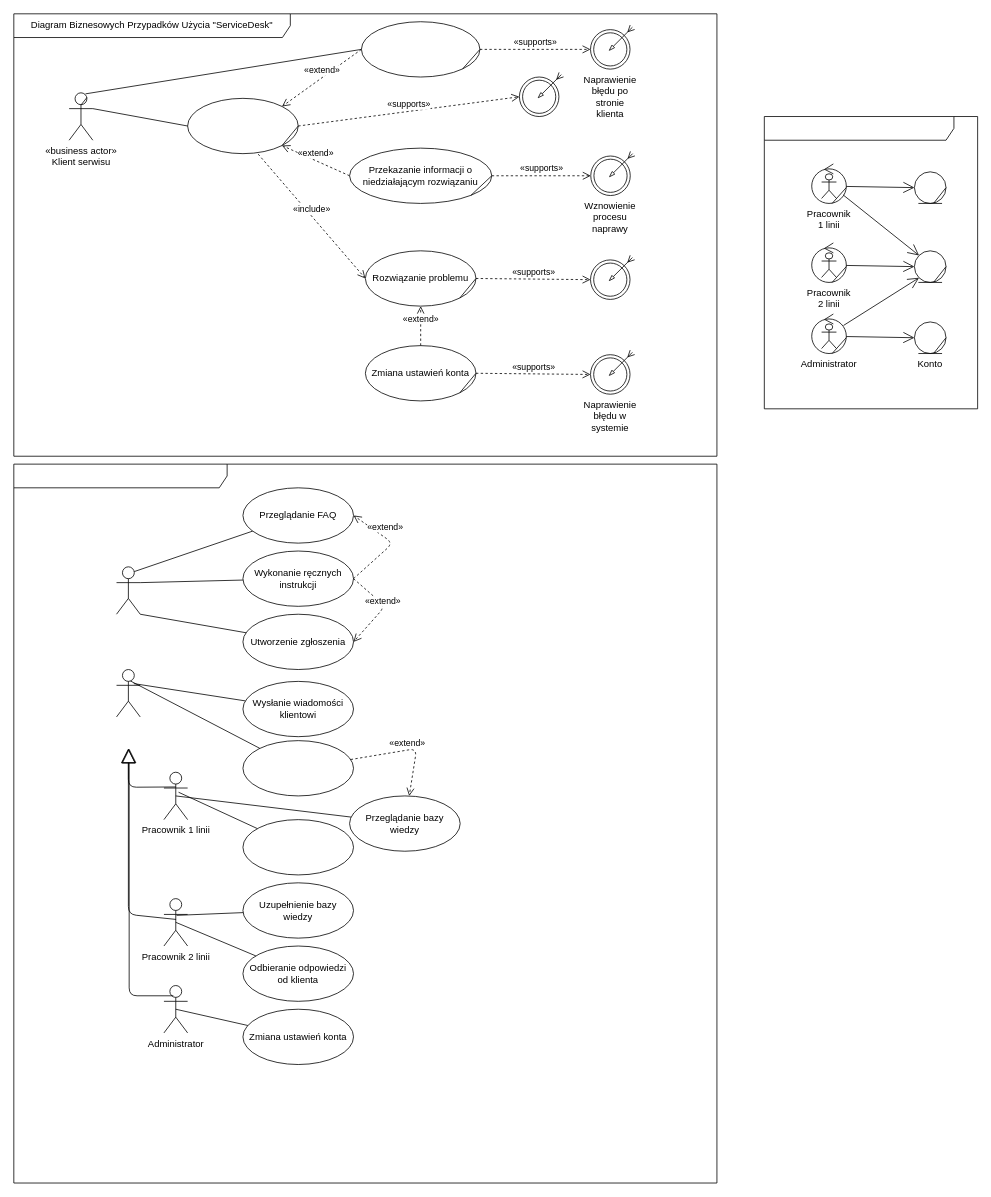
The diagram is 991 pixels wide and 1197 high, and some of its shapes have lost their labels. Each missing label, with the box of its shape:
<<abstract>> Pracownik: (116, 669, 140, 717)
Diagram Analityczny "ServiceDesk": (764, 116, 978, 409)
Diagram Przypadków Użycia "ServiceDesk": (13, 463, 717, 1183)
Klient: (116, 566, 140, 614)
Naprawianie problemu: (242, 740, 354, 796)
Podsumowanie: (914, 171, 946, 203)
Powiadomienie o przyjęciu zgłoszenia: (242, 819, 354, 875)
Rozpoczecie procesu naprawy: (519, 76, 559, 117)
Wykonanie ręcznych instrukcji z odpowiedzi: (361, 21, 480, 77)
Zakończenie procesu naprawy: (590, 259, 630, 299)
Zlecenie: (914, 250, 946, 282)
Złożenie zgłoszenia: (187, 98, 298, 154)
